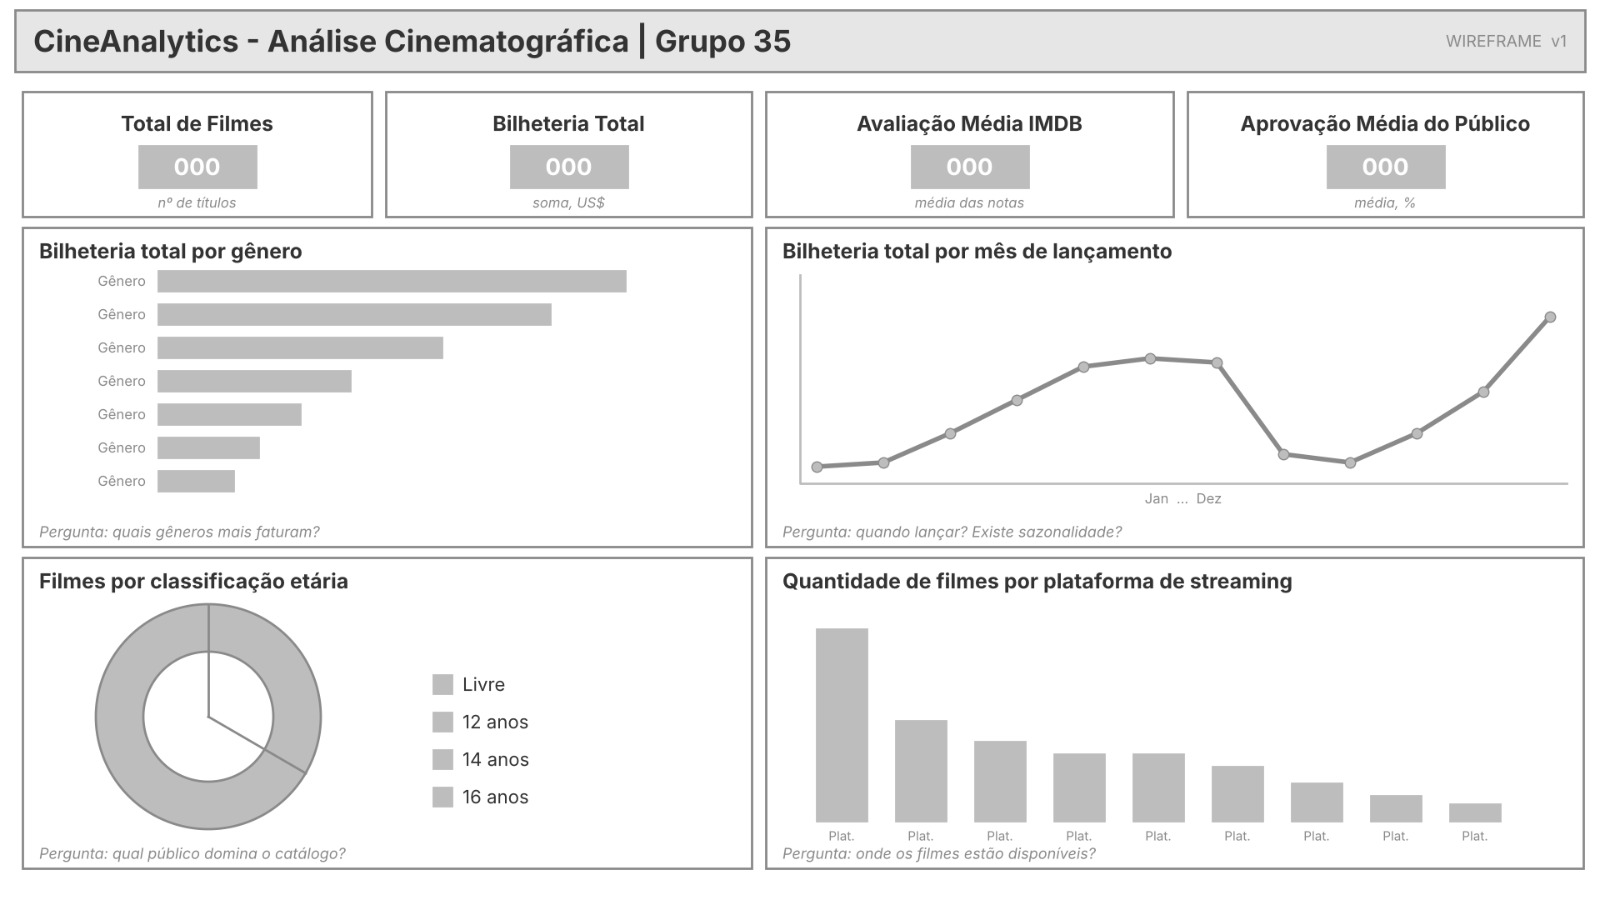

This screenshot's page, from the dashboard's own definition file:
{"tool":"powerbi","page":{"name":"Page 1","canvas":[1920,1080],"ordinal":0},"visuals":[{"type":"cardVisual","fields":{"Data":["Base_Dados.Total de Filmes"]},"box":[26.9,109.6,419.2,150],"z":0},{"type":"cardVisual","fields":{"Data":["Base_Dados.Avaliacao Media IMDB"]},"box":[919.2,109.6,488.5,150],"z":1000},{"type":"cardVisual","fields":{"Data":["Base_Dados.Bilheteria Total"]},"box":[463.5,109.6,438.5,150],"z":2000},{"type":"cardVisual","fields":{"Data":["Base_Dados.Aprovacao Media Publico"]},"box":[1425,109.6,475,150],"z":3000},{"type":"clusteredBarChart","fields":{"Category":["Por_Genero.Gênero"],"Y":["Sum(Por_Genero.Bilheteria Total (Mi USD))"]},"box":[26.9,273.1,875,382.7],"z":4000},{"type":"lineChart","fields":{"Category":["Por_Mes.Mês"],"Y":["Base_Dados.Bilheteria Total"]},"box":[919.2,273.1,980.8,382.7],"z":5000},{"type":"donutChart","fields":{"Category":["Por_Faixa_Etaria.Classificação Etária"],"Y":["Base_Dados.Total de Filmes"]},"box":[26.9,669.2,875,373.1],"z":6000},{"type":"clusteredColumnChart","fields":{"Category":["Por_Streaming.Plataforma"],"Y":["Sum(Por_Streaming.Qtd. Filmes)"]},"box":[919.2,669.2,980.8,373.1],"z":7000},{"type":"textbox","box":[18,11.5,1765.6,73.8],"z":8000},{"type":"textbox","box":[18,63.9,1882,90.2],"z":9000}]}

Visuals, with their boxes in screenshot pixels (x1, y1, x2, y2), scaled from the page's 1920x1080 canvas onto the 1600x900 screenshot:
cardVisual - Base_Dados.Total de Filmes: Rect(22, 91, 372, 216)
cardVisual - Base_Dados.Avaliacao Media IMDB: Rect(766, 91, 1173, 216)
cardVisual - Base_Dados.Bilheteria Total: Rect(386, 91, 752, 216)
cardVisual - Base_Dados.Aprovacao Media Publico: Rect(1188, 91, 1583, 216)
clusteredBarChart - Por_Genero.Gênero x Sum(Por_Genero.Bilheteria Total (Mi USD)): Rect(22, 228, 752, 546)
lineChart - Por_Mes.Mês x Base_Dados.Bilheteria Total: Rect(766, 228, 1583, 546)
donutChart - Por_Faixa_Etaria.Classificação Etária x Base_Dados.Total de Filmes: Rect(22, 558, 752, 869)
clusteredColumnChart - Por_Streaming.Plataforma x Sum(Por_Streaming.Qtd. Filmes): Rect(766, 558, 1583, 869)
textbox: Rect(15, 10, 1486, 71)
textbox: Rect(15, 53, 1583, 128)
